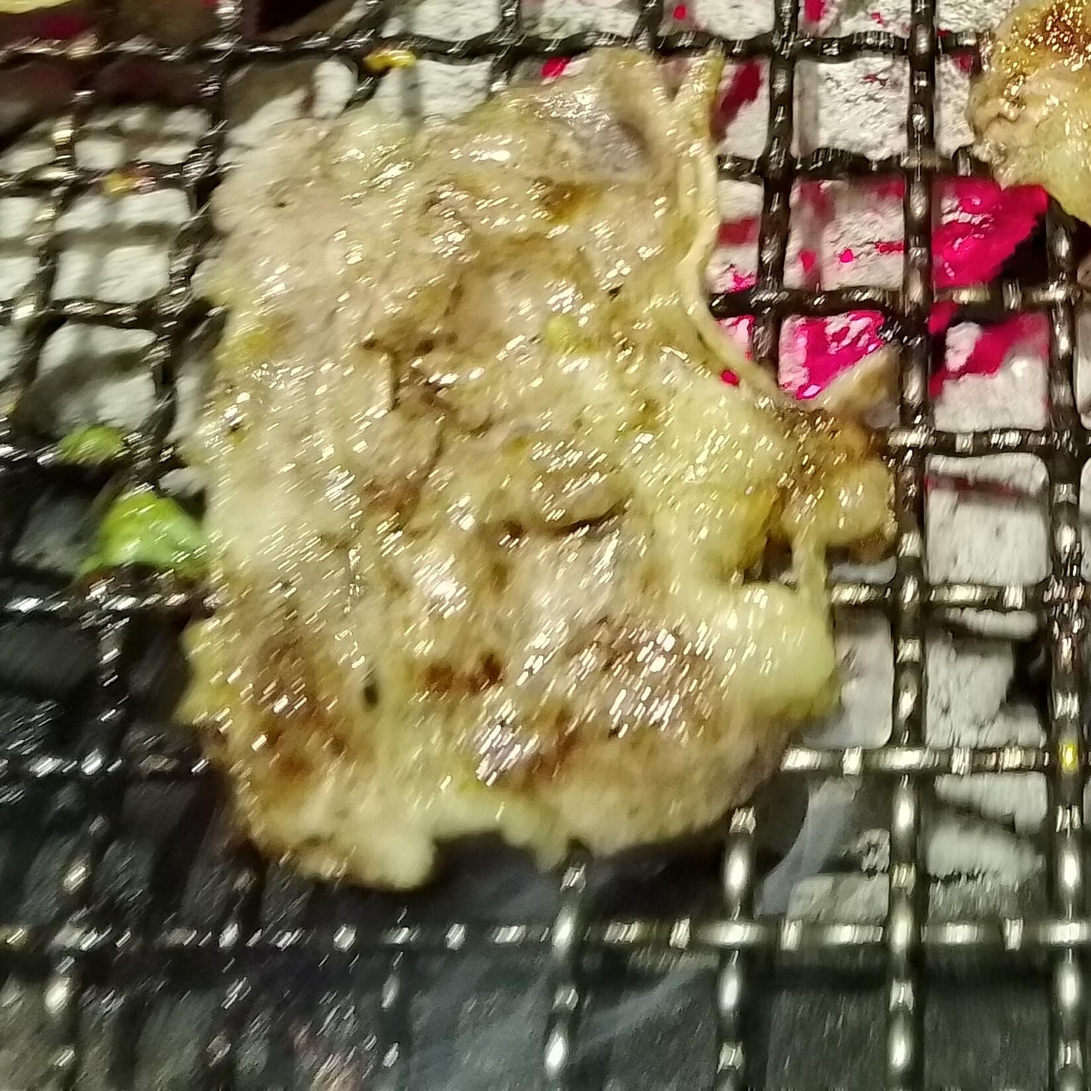Overcooked: (166, 50, 900, 898)
Well-Cooked: (968, 0, 1090, 230)
